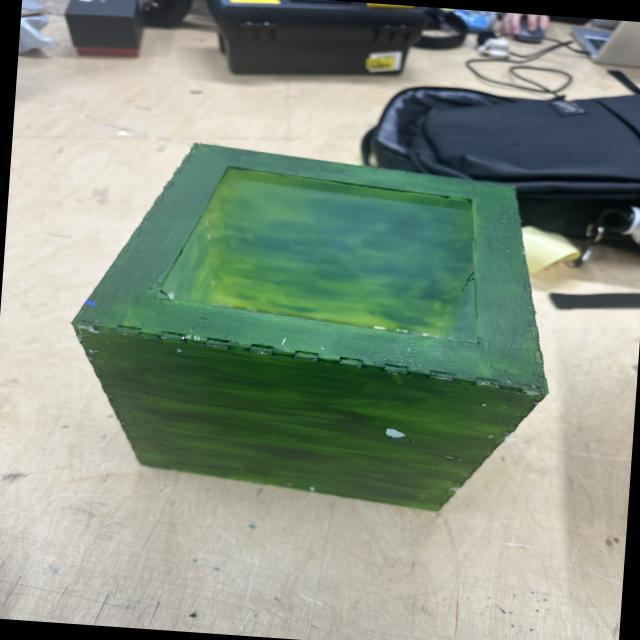green_bin: (59, 135, 564, 520)
